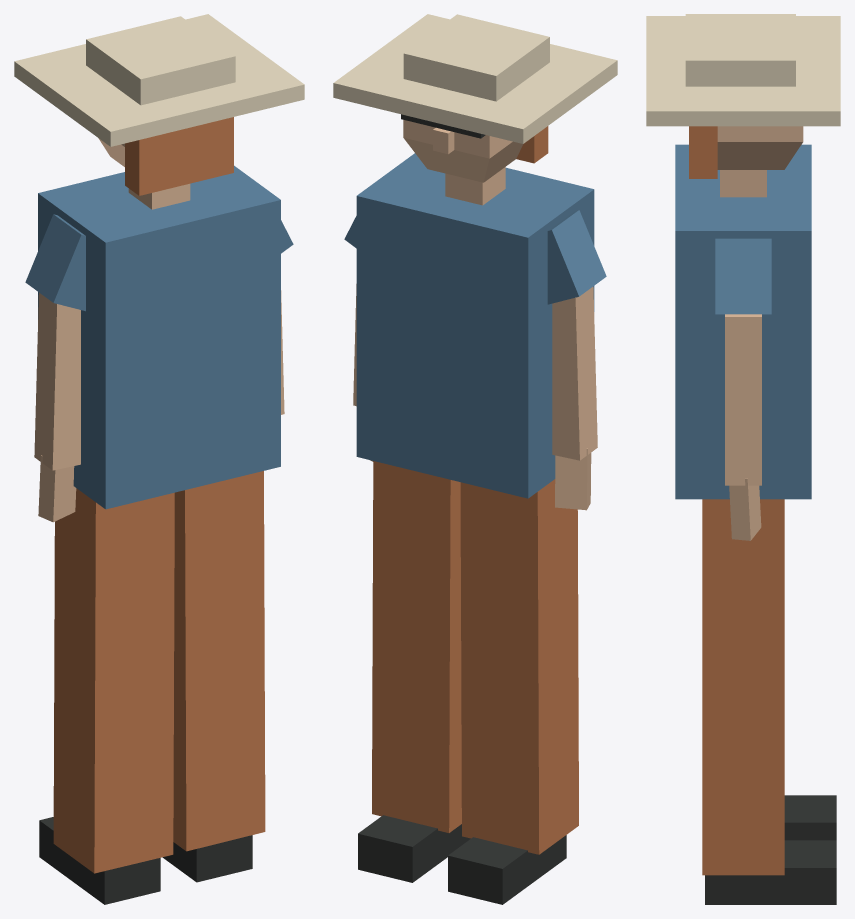
The model's file is pedestrian_12.glb.
3 views of the same model, side by side, from view 1: azimuth 30°, elevation 25°; view 2: azimuth 150°, elevation 25°; view 3: azimuth 270°, elevation 25° (orthographic). The views are drawn at different scales.
Visible parts, largest first — view 1: pedestrian_12 crowd_trousers, pedestrian_12 crowd_shirt, pedestrian_12 crowd_accessory, pedestrian_12 crowd_rubber, pedestrian_12 crowd_skin; view 2: pedestrian_12 crowd_trousers, pedestrian_12 crowd_shirt, pedestrian_12 crowd_accessory, pedestrian_12 crowd_skin, pedestrian_12 crowd_rubber; view 3: pedestrian_12 crowd_shirt, pedestrian_12 crowd_trousers, pedestrian_12 crowd_accessory, pedestrian_12 crowd_skin, pedestrian_12 crowd_rubber.
Boxes of the visible parts, <box> form: pedestrian_12 crowd_trousers: <box>53,471,265,873</box>; pedestrian_12 crowd_shirt: <box>25,165,293,509</box>; pedestrian_12 crowd_accessory: <box>14,14,304,146</box>; pedestrian_12 crowd_rubber: <box>39,117,252,904</box>; pedestrian_12 crowd_skin: <box>34,138,284,522</box>; pedestrian_12 crowd_trousers: <box>372,461,578,854</box>; pedestrian_12 crowd_shirt: <box>344,153,606,498</box>; pedestrian_12 crowd_accessory: <box>333,14,617,143</box>; pedestrian_12 crowd_skin: <box>353,120,597,510</box>; pedestrian_12 crowd_rubber: <box>358,114,566,904</box>; pedestrian_12 crowd_shirt: <box>675,144,811,499</box>; pedestrian_12 crowd_trousers: <box>702,499,784,875</box>; pedestrian_12 crowd_accessory: <box>646,14,840,126</box>; pedestrian_12 crowd_skin: <box>717,126,803,540</box>; pedestrian_12 crowd_rubber: <box>689,126,836,904</box>.
Bounding box in the file's own units: 0.5004 × 1.64 × 0.3478.
